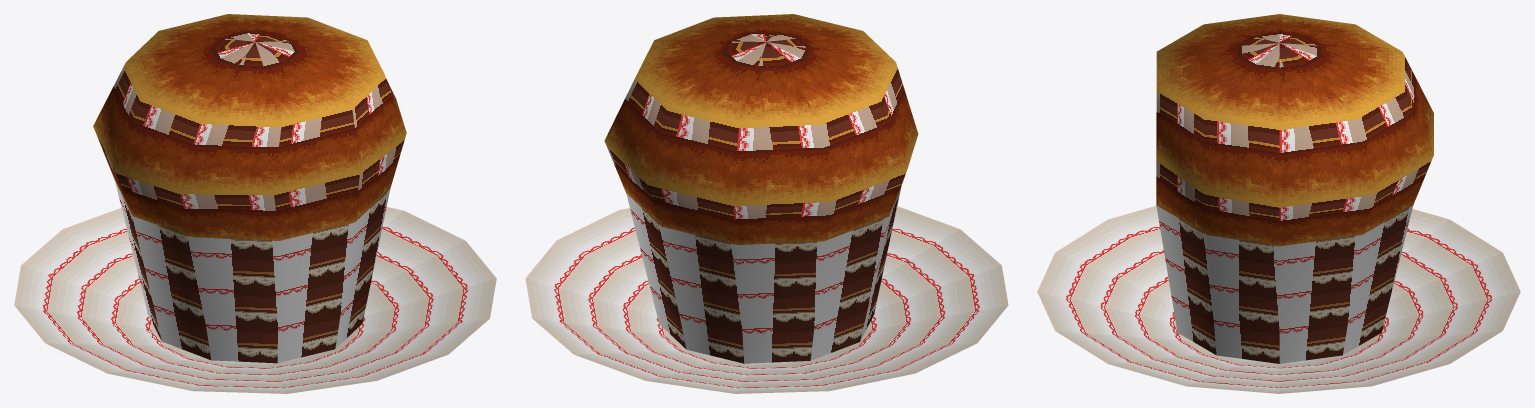
File: muffin.gltf
The picture shows the model from 3 angles, left to right: view 1: azimuth 30°, elevation 25°; view 2: azimuth 150°, elevation 25°; view 3: azimuth 270°, elevation 25°; orthographic projection.
Parts seen in each view (by area): view 1: muffin; view 2: muffin; view 3: muffin.
Part boxes in pixels (box(x1,y1,x2,y2)): muffin: box(14, 14, 496, 393); muffin: box(525, 14, 1008, 393); muffin: box(1037, 14, 1520, 393).
Bounding box in the file's own units: 0.7402 × 0.5142 × 0.7402.
3 materials, 3 textured.
